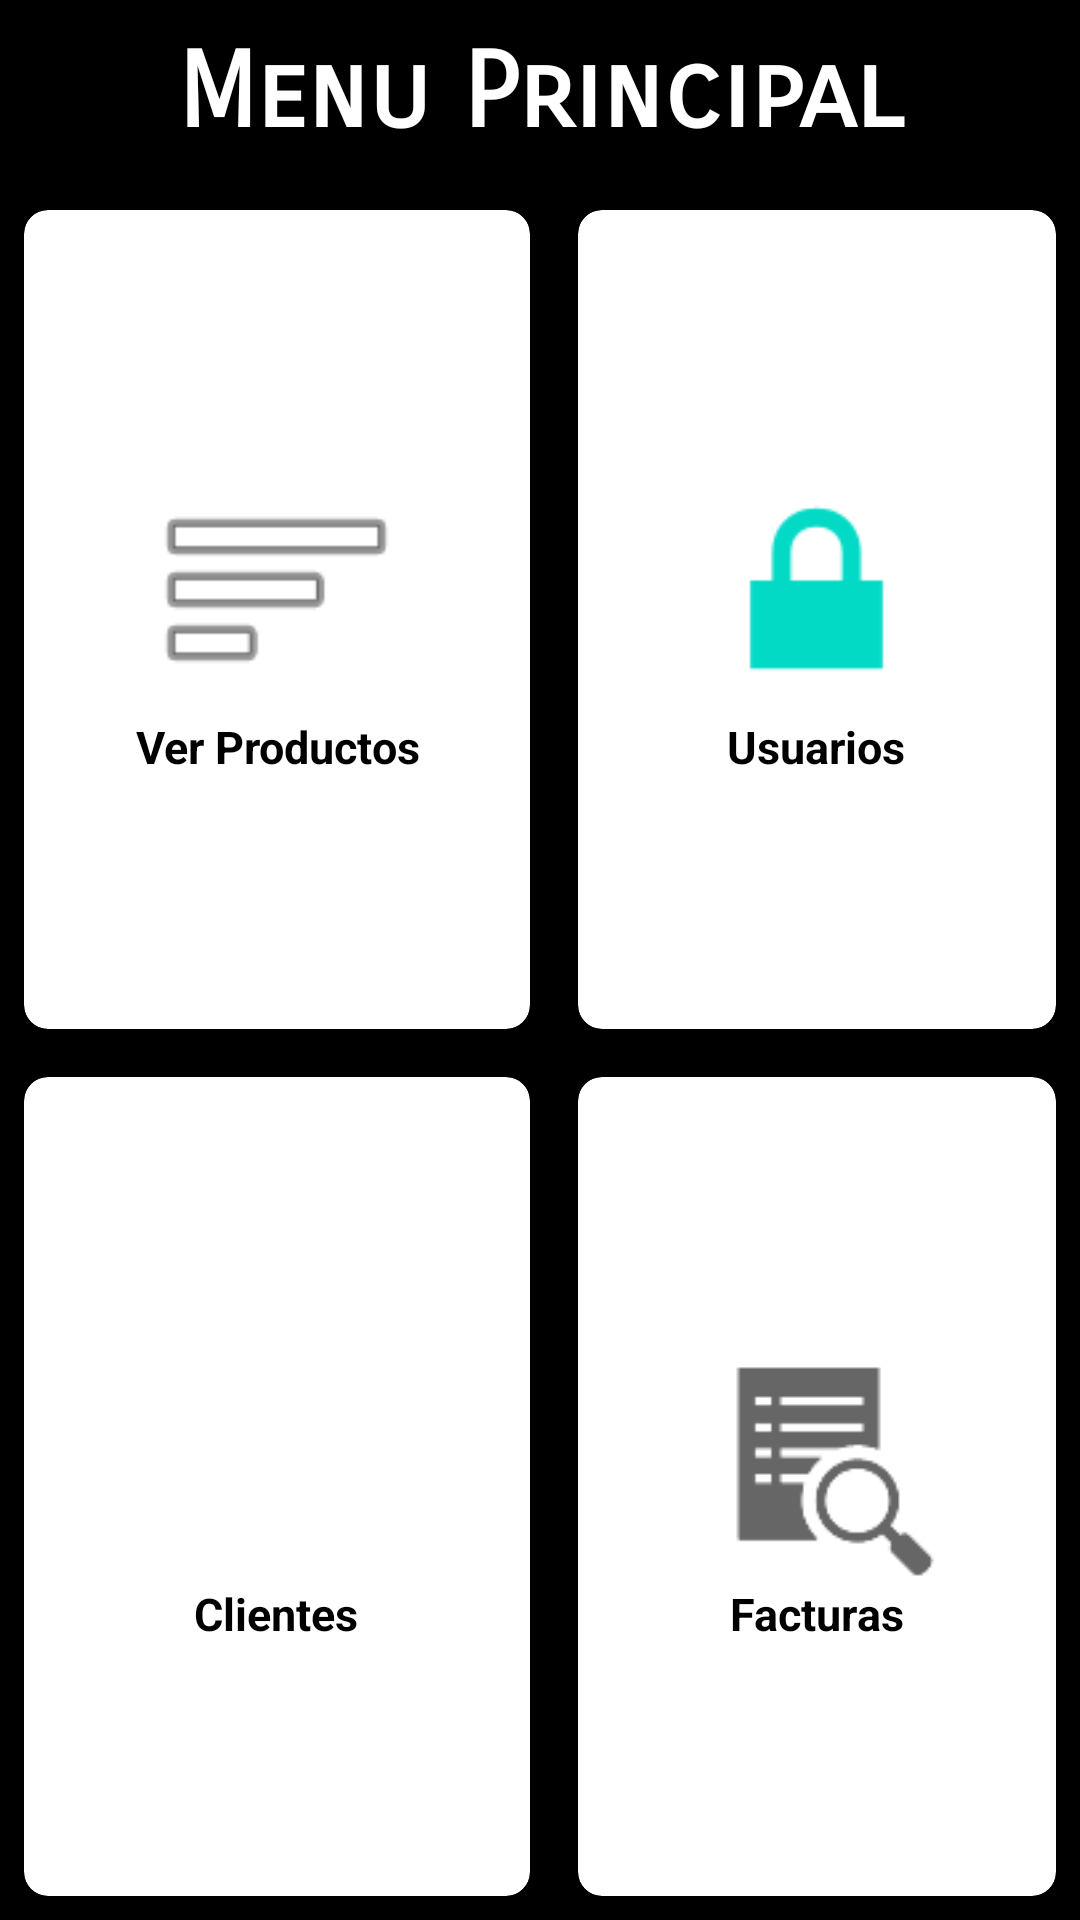

Named icons in this screenshot (1080 x 1920) and their bounding boxes, [x1,y1,x2,y2]:
lock: [749,506,884,671]
sort by size: [166,518,387,662]
